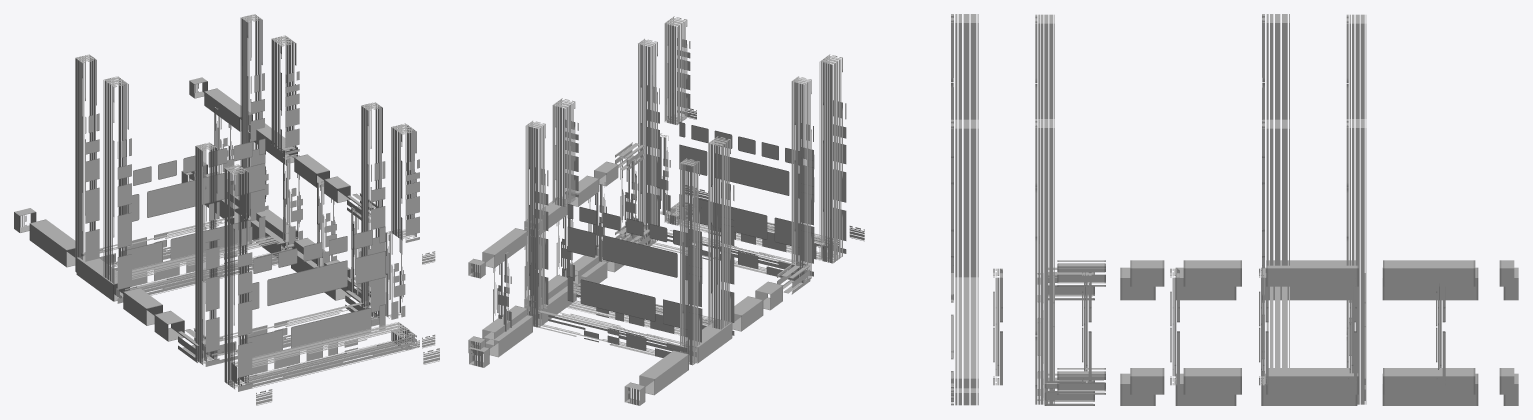
Rendered from pz_house_bunk_red_foot.obj.
The picture shows the model from 3 angles, left to right: view 1: azimuth 30°, elevation 25°; view 2: azimuth 150°, elevation 25°; view 3: azimuth 270°, elevation 25°; orthographic projection. The views are drawn at different scales.
Parts seen in each view (by area): view 1: upper_mattress, lower_mattress, end_post_left, upper_mattress_guard_left, lower_pillow_guard_left, upper_long_frame_left, upper_mattress_guard_end, lower_long_frame_left, long_side_ladder_rail_1, upper_long_frame_right, lower_long_frame_right, lower_pillow_guard_end (+11 smaller); view 2: lower_mattress, upper_mattress, upper_mattress_guard_left, end_post_left, lower_pillow_guard_left, lower_long_frame_right, upper_long_frame_left, lower_long_frame_left, upper_long_frame_right, long_side_ladder_rail_1, end_post_right, lower_pillow_guard_right_1 (+12 smaller); view 3: long_side_ladder_rail_0, long_side_ladder_rail_1, upper_long_frame_right, end_post_left, end_post_right, lower_long_frame_right, upper_mattress_guard_right_1, lower_pillow_guard_right_1, upper_mattress_guard_left, upper_mattress_guard_end, lower_pillow_guard_left, upper_long_frame_left (+8 smaller).
Boxes of the visible parts, x1,y1,x2,y2 form: upper_mattress: (241,226,385,357); lower_mattress: (121,138,265,269); end_post_left: (14,208,272,405); upper_mattress_guard_left: (224,164,252,391); lower_pillow_guard_left: (103,76,131,303); upper_long_frame_left: (195,142,219,366); upper_mattress_guard_end: (231,322,412,389); lower_long_frame_left: (75,54,99,272); long_side_ladder_rail_1: (189,77,435,264); upper_long_frame_right: (361,102,385,324); lower_long_frame_right: (240,14,264,221); lower_pillow_guard_end: (111,236,292,297); lower_mattress: (567,204,702,329); upper_mattress: (679,122,814,251); upper_mattress_guard_left: (819,54,846,263); end_post_left: (624,226,864,405); lower_pillow_guard_left: (708,136,734,335); lower_long_frame_right: (525,120,548,327); upper_long_frame_left: (791,76,813,282); lower_long_frame_left: (680,158,701,365); upper_long_frame_right: (638,38,659,245); long_side_ladder_rail_1: (468,108,696,278); end_post_right: (469,188,708,367); lower_pillow_guard_right_1: (552,98,578,206); long_side_ladder_rail_0: (1057,368,1514,394); long_side_ladder_rail_1: (1057,260,1514,286); upper_long_frame_right: (1035,119,1054,404); end_post_left: (1048,267,1518,300); end_post_right: (1044,373,1518,405); lower_long_frame_right: (1346,119,1366,404); upper_mattress_guard_right_1: (951,119,978,265); lower_pillow_guard_right_1: (1262,119,1289,265); upper_mattress_guard_left: (951,14,978,299); upper_mattress_guard_end: (951,273,978,397); lower_pillow_guard_left: (1262,14,1289,268); upper_long_frame_left: (1035,14,1054,188).
Bounding box in the file's own units: 0.912 × 1 × 2.05.
